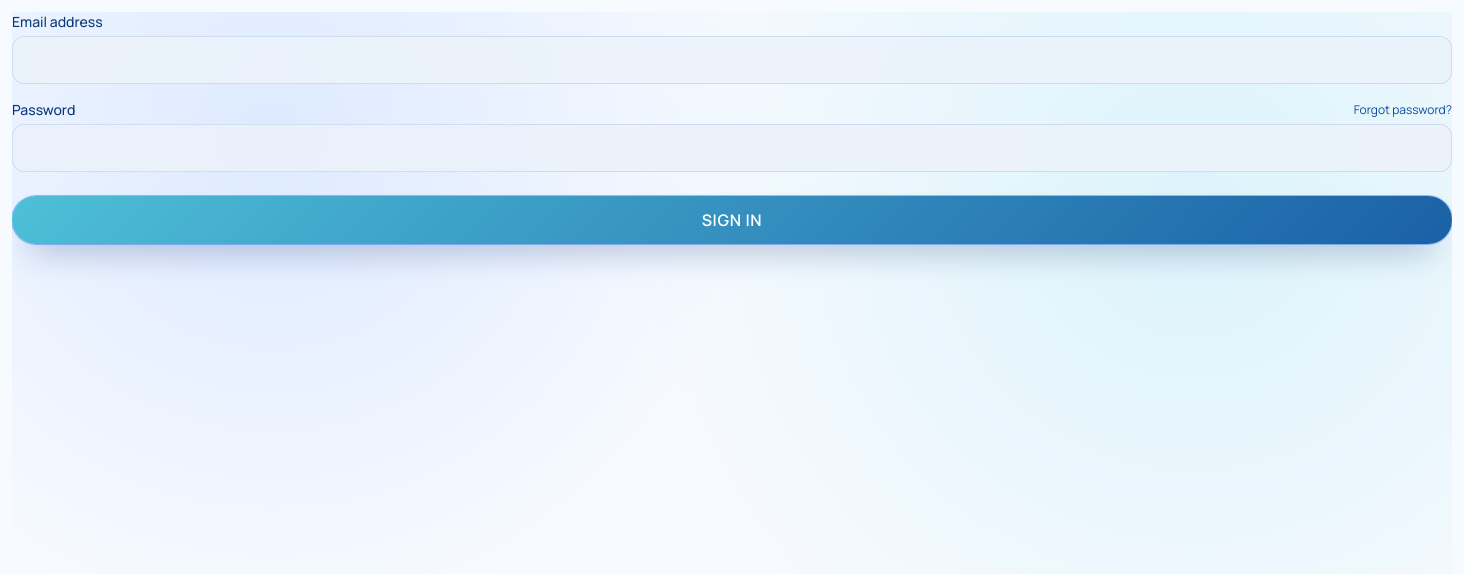
Test case: LoginForm › shows validation error for invalid email format
The image size is (1464, 574).
Type "notanemail" into the field labelled "Email address".
click(732, 60); type("notanemail")  # box [12,36,1452,84]
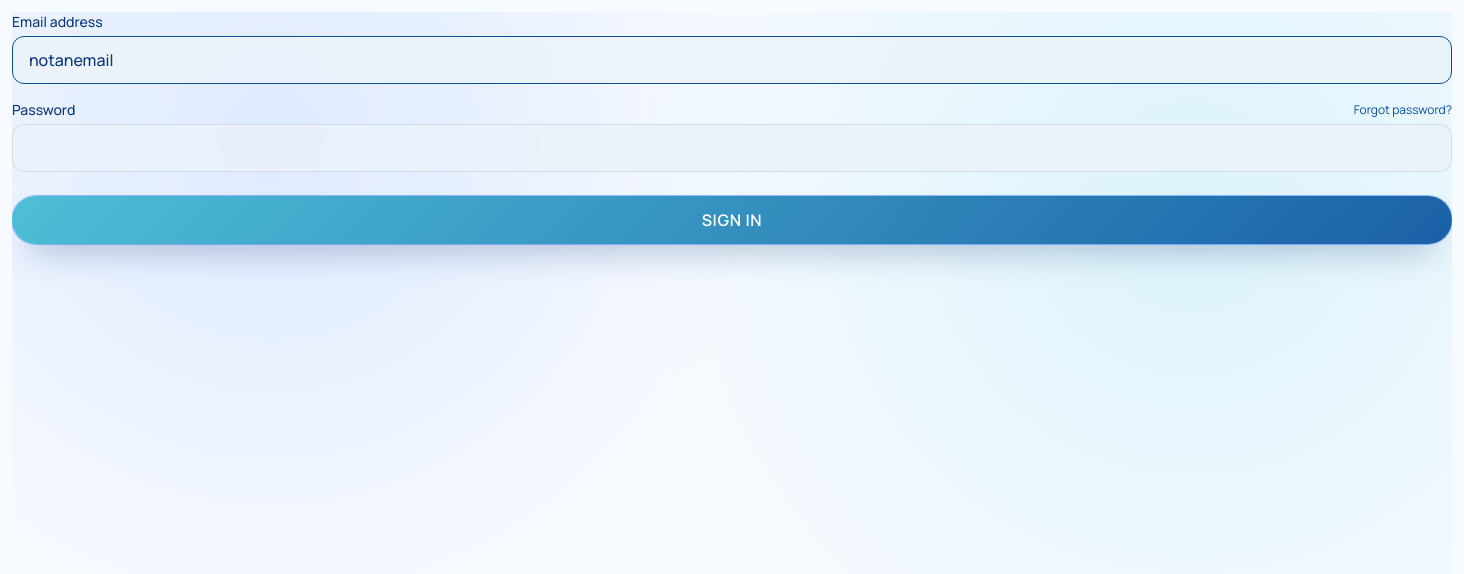
Click the button "Sign in".
click(732, 220)  # box [12,196,1452,244]
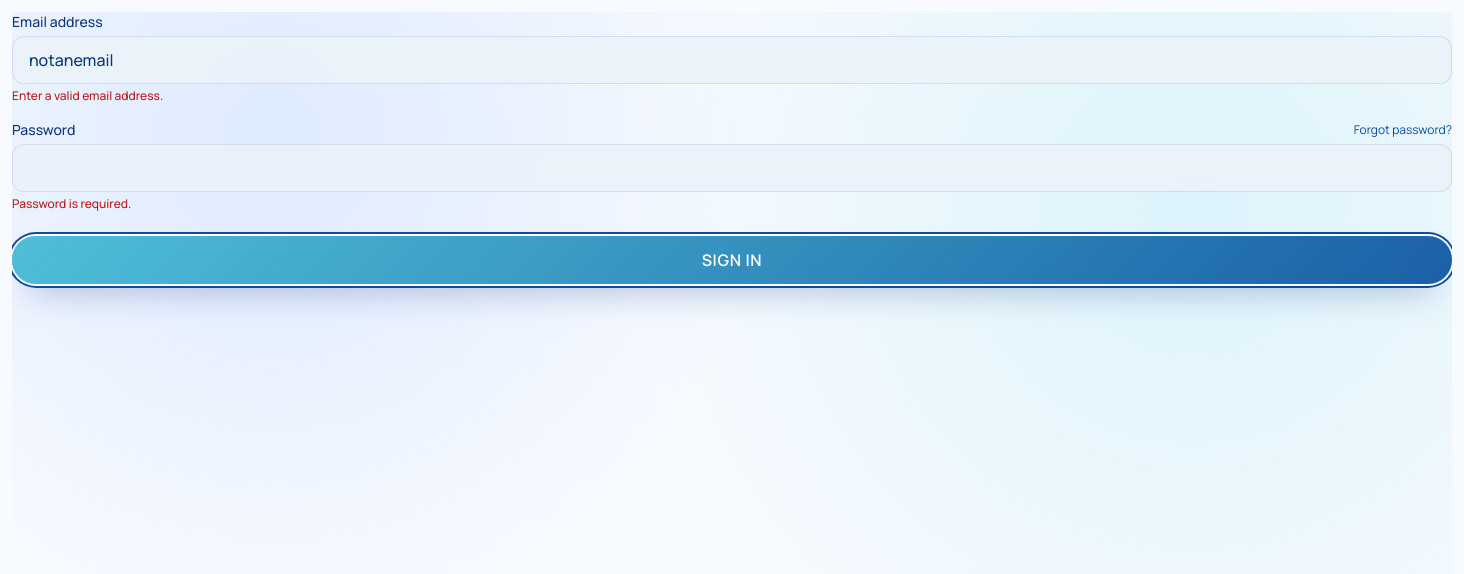
Check: the text "Enter a valid email address." is shown, box [12,87,163,104]
